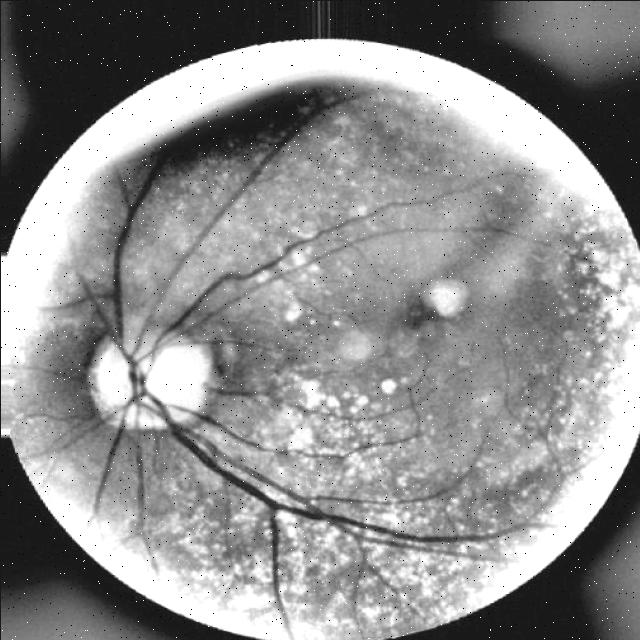Macula: (388, 280, 453, 351)
Nerves: (147, 413, 541, 557), (97, 167, 319, 379)
Optic Disk: (85, 320, 216, 436)
